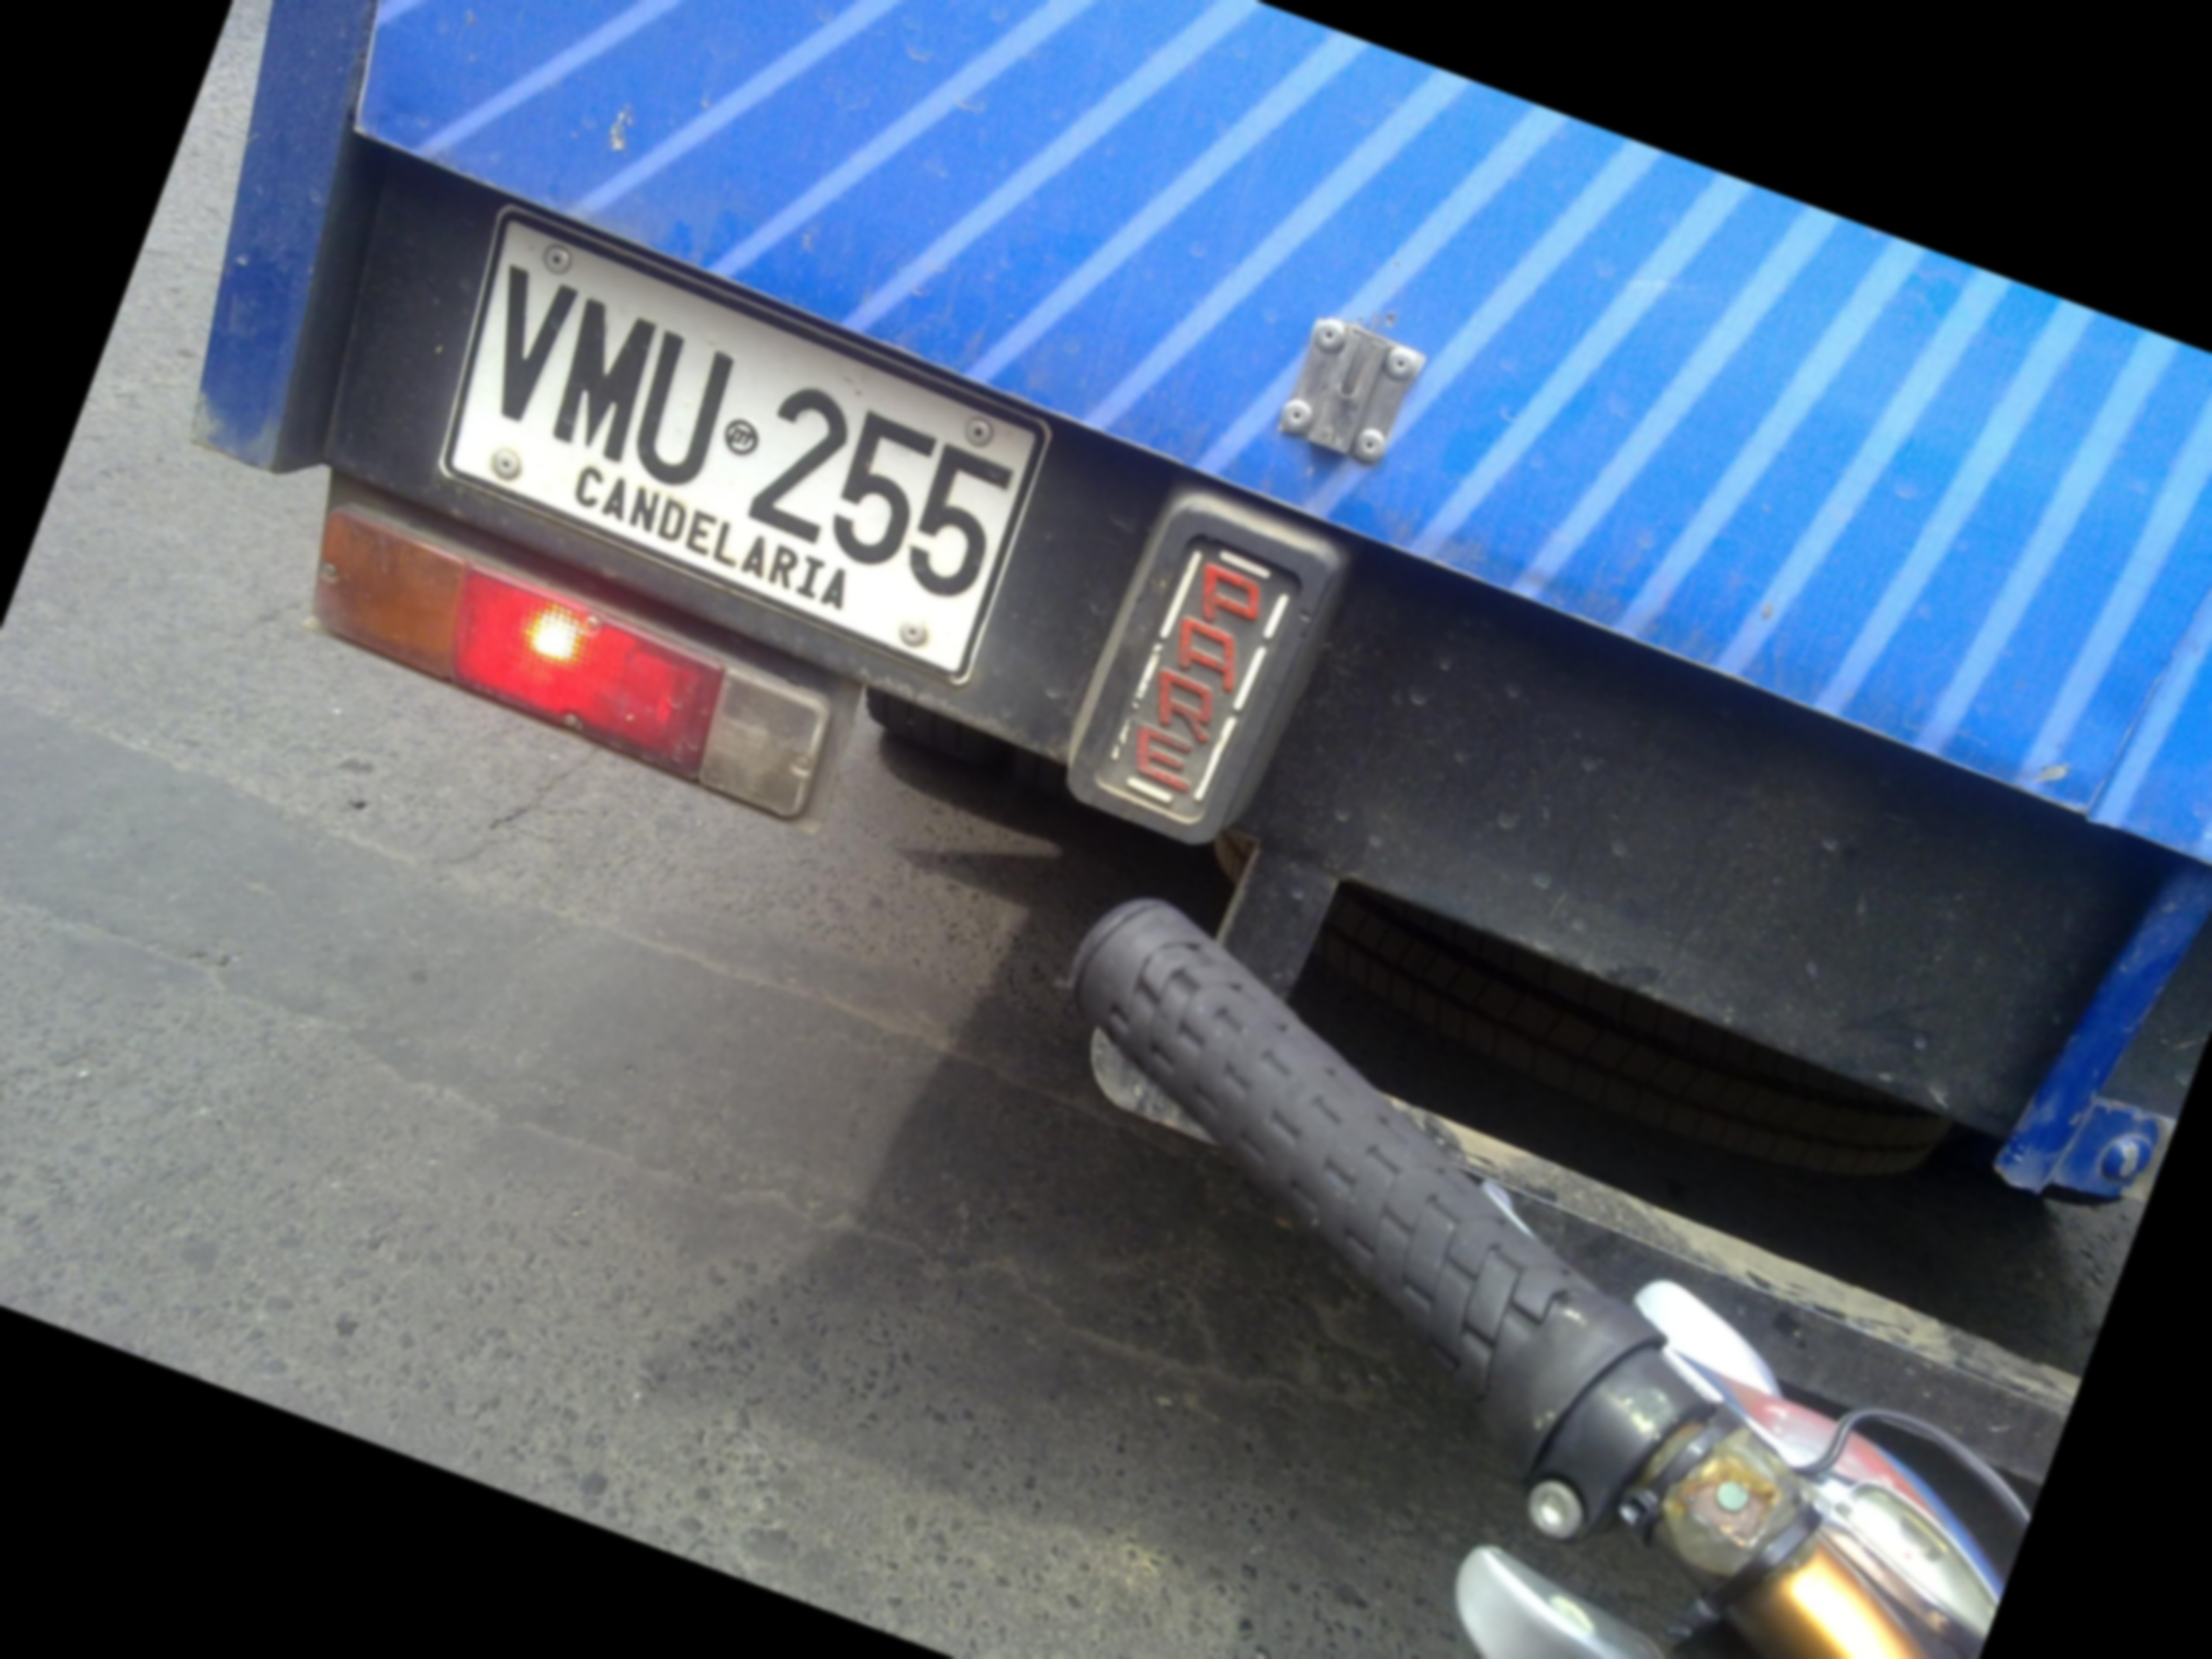placas: (390, 188, 1082, 698)
